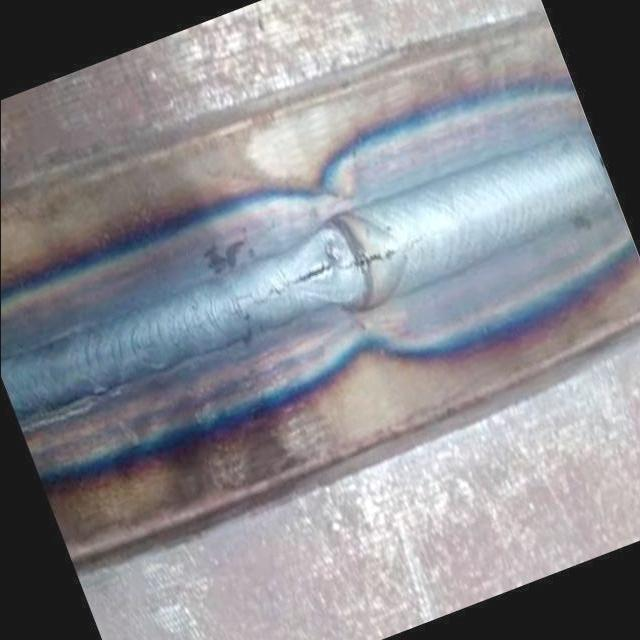defect: (223, 246, 400, 324)
